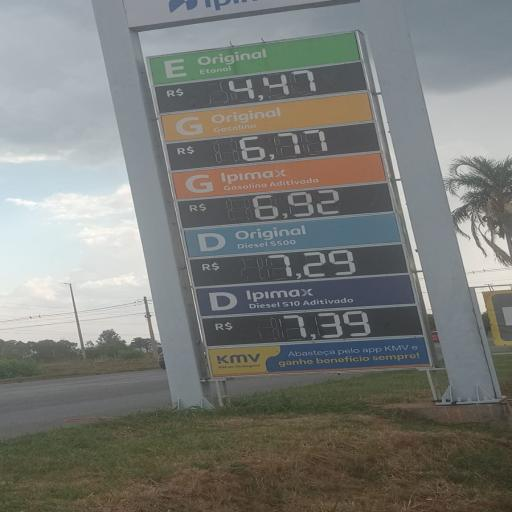ETANOL: (147, 42, 290, 84)
GASOLINA AD: (171, 159, 342, 199)
GASOLINA C: (160, 97, 328, 140)
S10: (199, 281, 371, 317)
S500: (184, 220, 338, 259)
placa: (106, 19, 486, 351)
preco: (240, 185, 352, 222), (221, 67, 329, 105), (275, 308, 382, 344), (264, 247, 366, 284), (235, 128, 341, 163)
